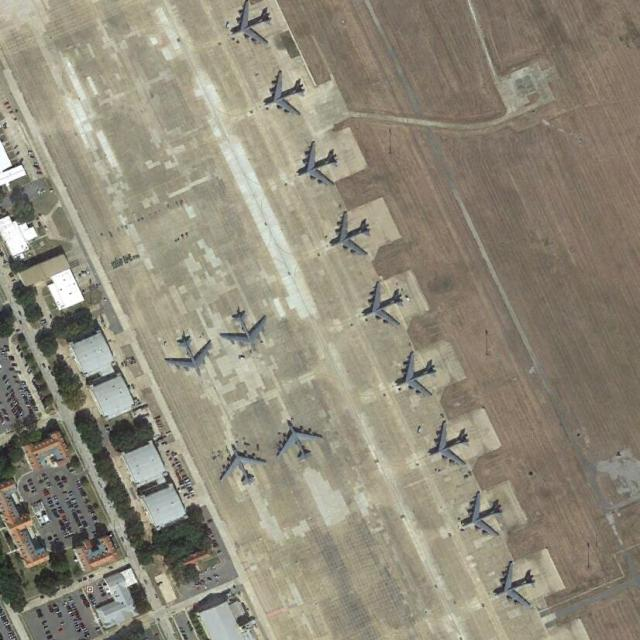fighter jet: (349, 275, 419, 328), (485, 556, 541, 614), (284, 138, 351, 186), (258, 65, 314, 117), (456, 488, 511, 538), (413, 418, 475, 462), (165, 334, 218, 384), (321, 205, 379, 249), (388, 351, 439, 396), (222, 312, 269, 358), (211, 441, 256, 484), (228, 0, 275, 41), (278, 421, 322, 463)
